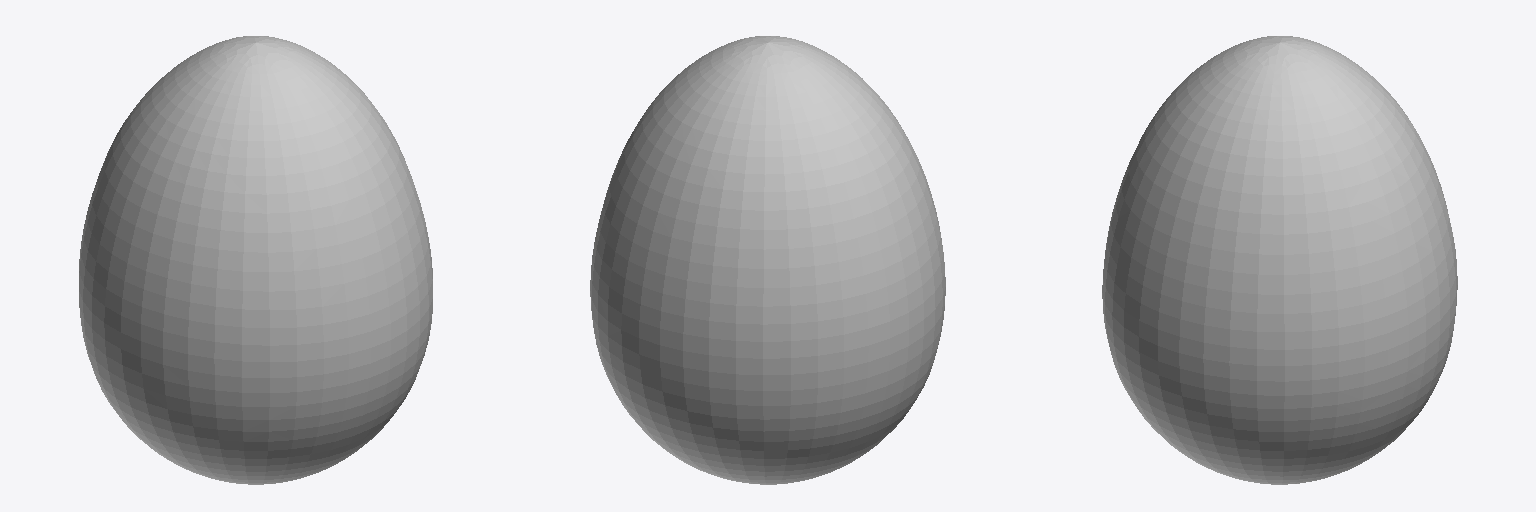
Rendered from cadburry.obj.
The picture shows the model from 3 angles: view 1: azimuth 30°, elevation 25°; view 2: azimuth 150°, elevation 25°; view 3: azimuth 270°, elevation 25°; orthographic projection.
Visible parts, largest first — view 1: Sphere.001; view 2: Sphere.001; view 3: Sphere.001.
Part boxes in pixels (bbox=[...]): Sphere.001: bbox=[79, 36, 432, 484]; Sphere.001: bbox=[590, 36, 945, 484]; Sphere.001: bbox=[1102, 36, 1457, 484].
Bounding box in the file's own units: 3.05 × 4.05 × 3.05.